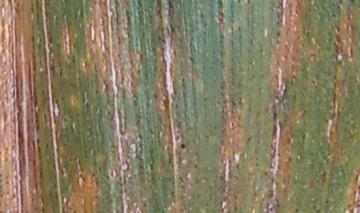tarspot: (179, 143, 187, 150)
